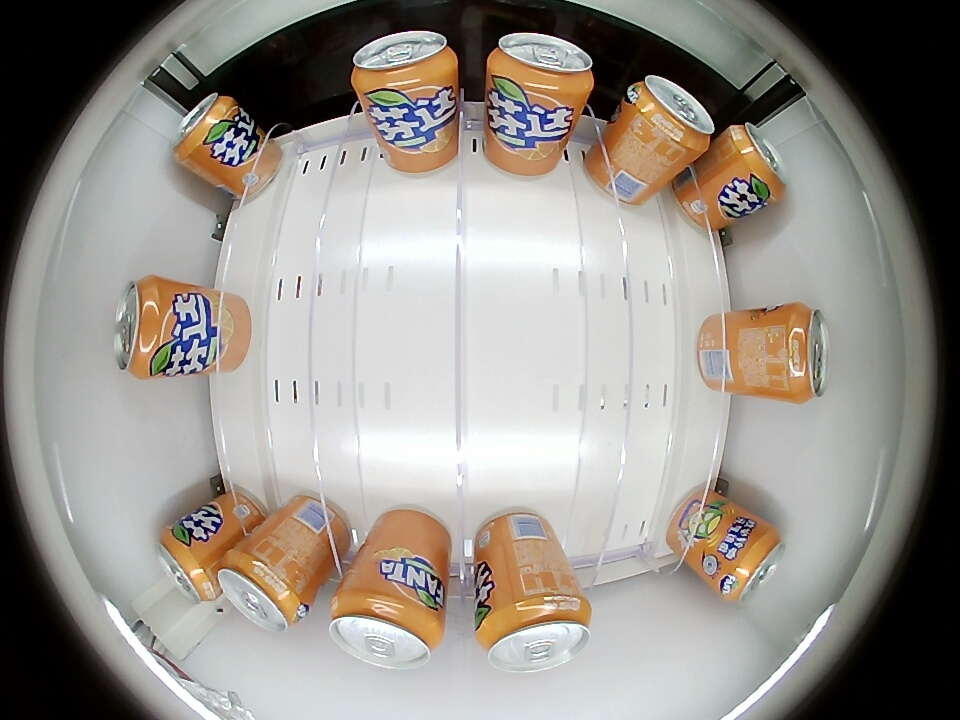fenda: (329, 585, 445, 669), (476, 592, 592, 674), (487, 32, 594, 107), (218, 544, 307, 633), (351, 30, 458, 103), (625, 75, 714, 156), (114, 276, 174, 378), (773, 302, 830, 403), (718, 522, 785, 603), (725, 121, 788, 204), (172, 92, 235, 169), (156, 525, 218, 603)
